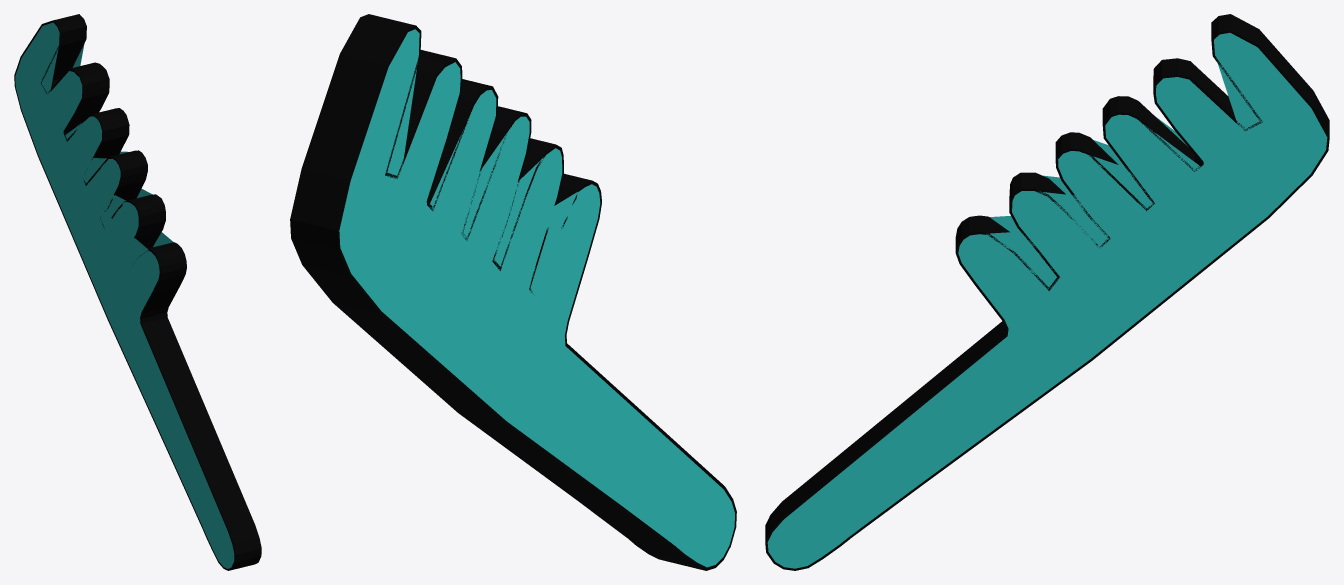
File: comb.fbx
3 views of the same model, side by side, from view 1: azimuth 30°, elevation 25°; view 2: azimuth 150°, elevation 25°; view 3: azimuth 270°, elevation 25° (orthographic). The views are drawn at different scales.
Parts seen in each view (by area): view 1: Plane; view 2: Plane; view 3: Plane.
Part boxes in pixels (x1,y1,x2,y2): Plane: (14,14,261,570); Plane: (290,14,736,570); Plane: (765,14,1329,570).
Bounding box in the file's own units: 32.6 × 501 × 474.
